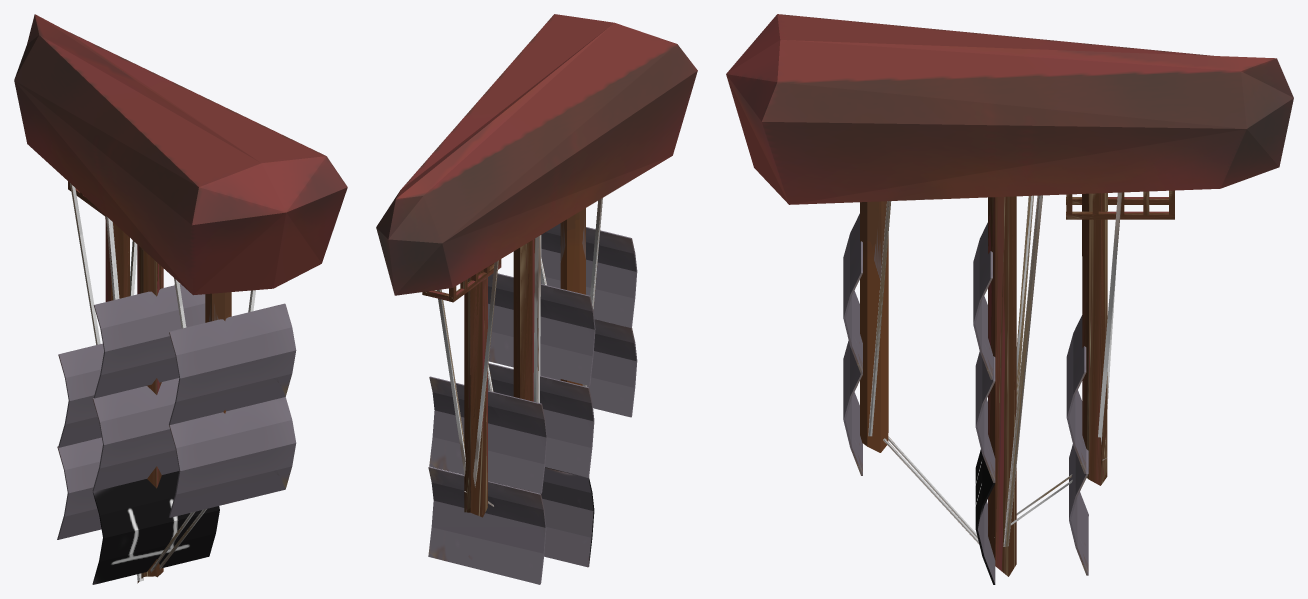
Rendered from big_boat.obj.
The picture shows the model from 3 angles, left to right: view 1: azimuth 30°, elevation 25°; view 2: azimuth 150°, elevation 25°; view 3: azimuth 270°, elevation 25°; orthographic projection. The views are drawn at different scales.
Visible parts, largest first — view 1: Cube; view 2: Cube; view 3: Cube.
Boxes of the visible parts, x1=… form: Cube: x1=14, y1=14, x2=347, y2=584; Cube: x1=376, y1=14, x2=697, y2=584; Cube: x1=726, y1=14, x2=1293, y2=584.
Bounding box in the file's own units: 2.68 × 8.11 × 7.74.
